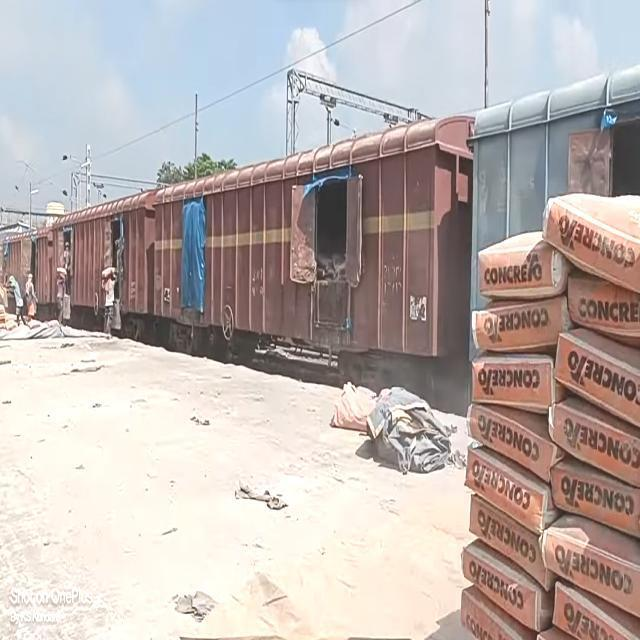gunny_bag: (543, 514, 640, 617), (544, 193, 640, 291), (462, 540, 555, 632), (466, 444, 561, 534), (470, 495, 558, 591), (556, 327, 640, 426), (550, 396, 640, 487), (468, 403, 566, 482), (552, 457, 640, 538), (479, 231, 572, 298), (472, 294, 573, 351), (473, 353, 567, 412), (569, 269, 640, 345), (554, 579, 640, 640), (461, 586, 537, 640)
